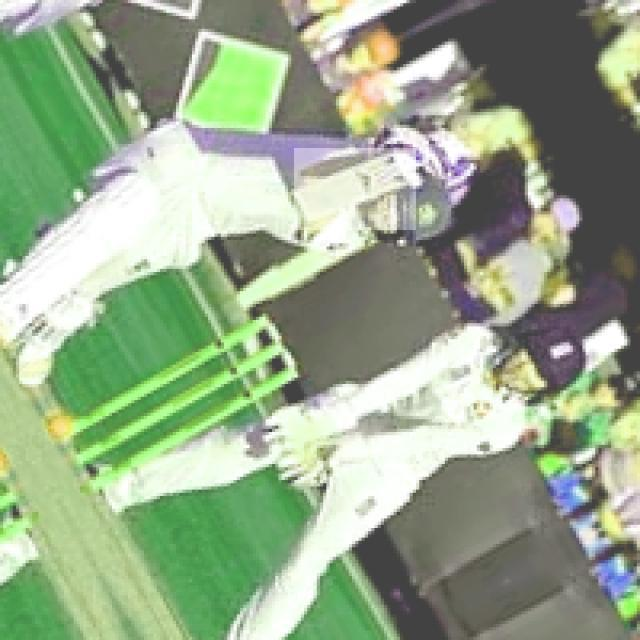bat: (295, 148, 413, 233)
toe: (286, 188, 316, 227)
